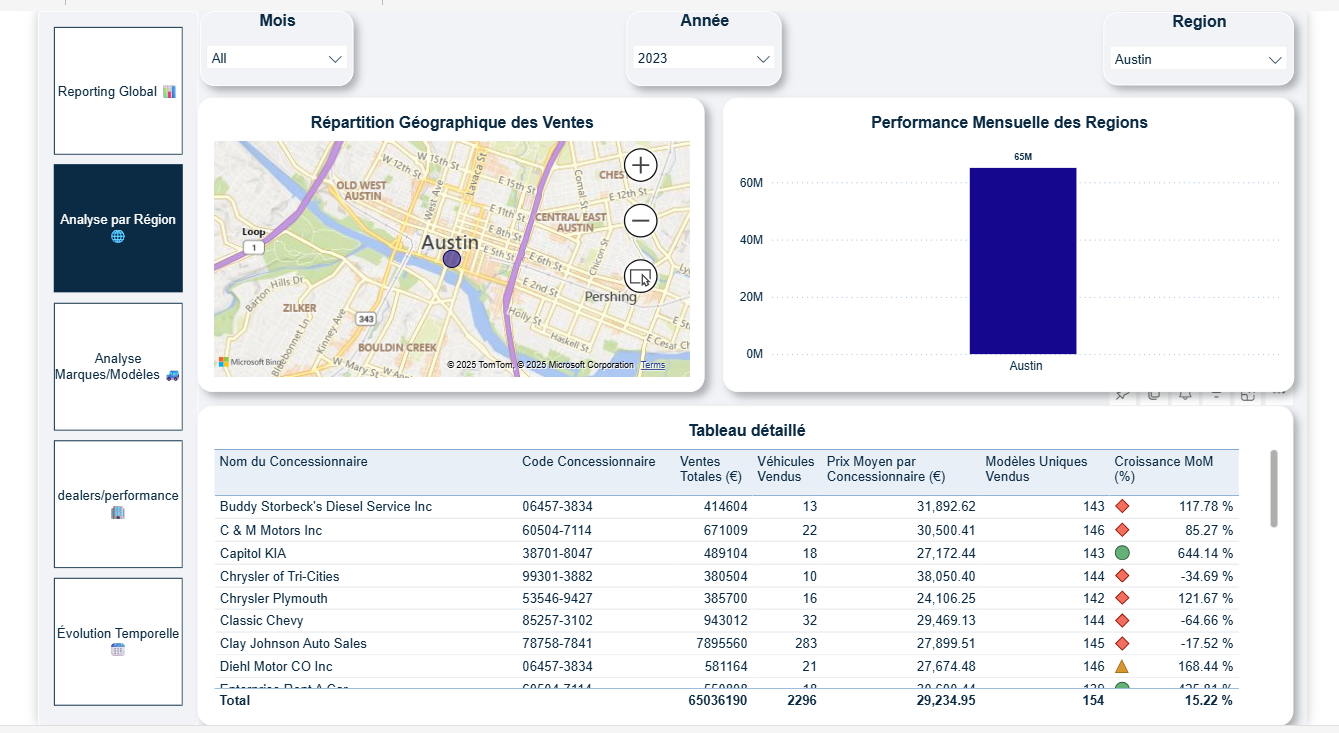

The page's visual inventory and layout, read from the dashboard file:
{"tool":"powerbi","page":{"name":"Analyse par Région 🌐","canvas":[1280,720],"ordinal":1},"visuals":[{"type":"pageNavigator","box":[0,0,161.9,720.6],"z":0},{"type":"map","title":"Répartition Géographique des Ventes","fields":{"Size":["mesmesure.Total Sales"],"Category":["Ventes.Dealer_Region"]},"box":[161.3,87.1,511.5,296.9],"z":1000},{"type":"tableEx","title":"Tableau détaillé","fields":{"Values":["Ventes.Dealer_Name","Ventes.Dealer_No ","mesmesure.Total Sales","mesmesure.Cars Sold","mesmesure.Average Price per Dealer","mesmesure.Unique Models Sold","mesmesure.Dealer MoM Growth"]},"box":[161.3,398.5,1105.2,322.7],"z":2000},{"type":"slicer","title":"Region","fields":{"Values":["Ventes.Dealer_Region"]},"box":[1074.6,1.6,192,74.2],"z":3000},{"type":"clusteredColumnChart","title":"Performance Mensuelle des Regions","fields":{"Category":["Ventes.Dealer_Region"],"Y":["mesmesure.Total Sales"]},"box":[690.6,87.1,576,296.9],"z":4000},{"type":"slicer","title":"Mois","fields":{"Values":["DateTable.Month"]},"box":[163,0,154.9,75.8],"z":5000},{"type":"slicer","title":"Année","fields":{"Values":["DateTable.Year"]},"box":[593.8,0,156.5,75.8],"z":6000}]}

Visuals, with their boxes on the page's 1280x720 design canvas (x1, y1, x2, y2). These are canvas units, not pixel positions in the 1339x733 screenshot, which may show the page scaled, cropped or inside an application window:
pageNavigator: <bbox>0, 0, 162, 721</bbox>
"Répartition Géographique des Ventes" map: <bbox>161, 87, 673, 384</bbox>
"Tableau détaillé" tableEx: <bbox>161, 398, 1266, 721</bbox>
"Region" slicer: <bbox>1075, 2, 1267, 76</bbox>
"Performance Mensuelle des Regions" clusteredColumnChart: <bbox>691, 87, 1267, 384</bbox>
"Mois" slicer: <bbox>163, 0, 318, 76</bbox>
"Année" slicer: <bbox>594, 0, 750, 76</bbox>
